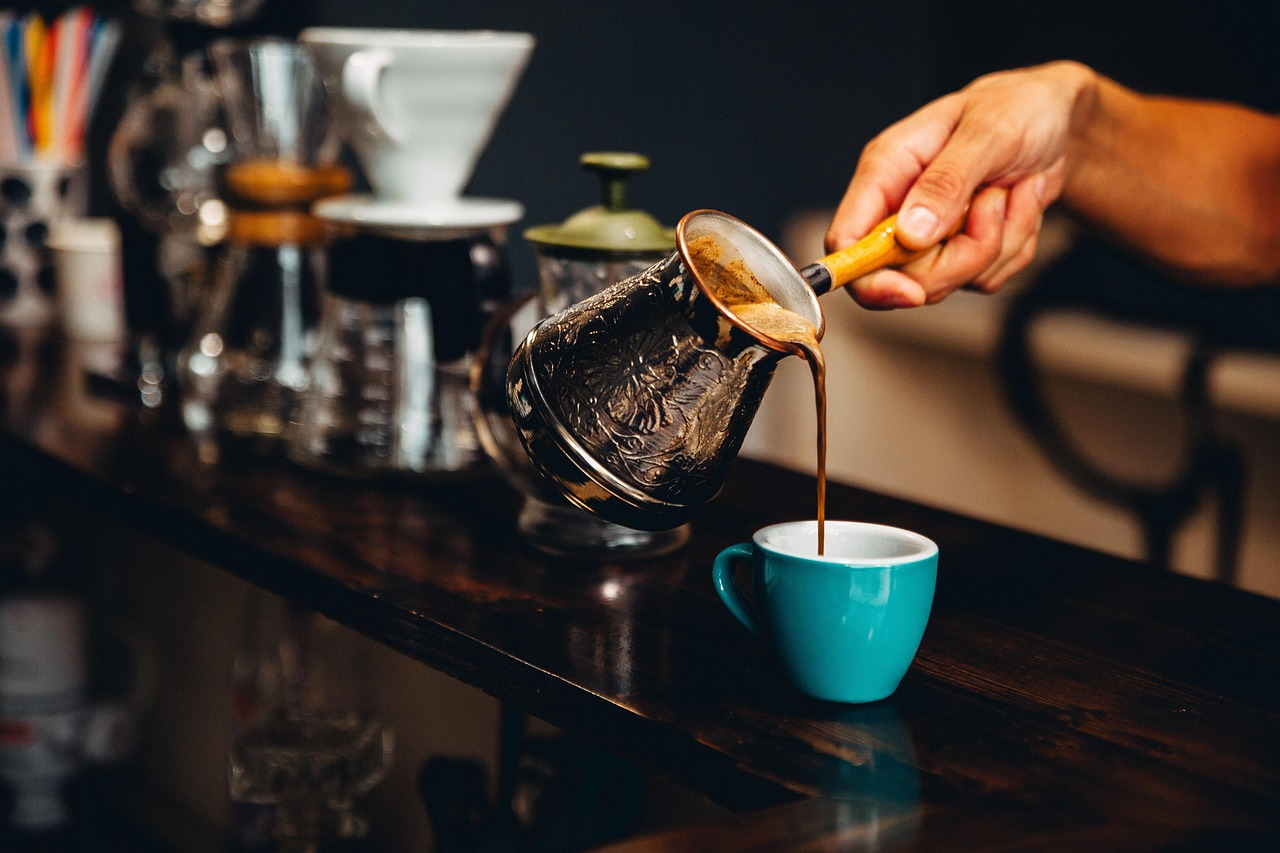mug: (683, 466, 1051, 710)
